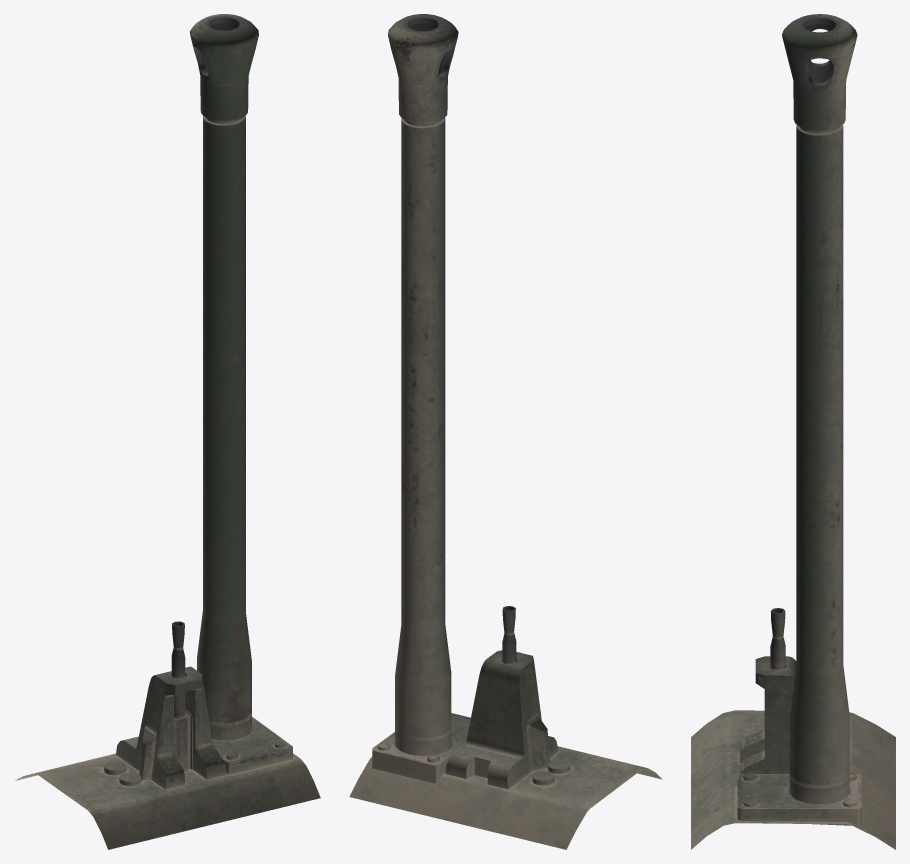
File: Gun_07.glb
3 views of the same model, side by side, from view 1: azimuth 30°, elevation 25°; view 2: azimuth 150°, elevation 25°; view 3: azimuth 270°, elevation 25° (orthographic). The views are drawn at different scales.
Parts seen in each view (by area): view 1: set_0_group_0; view 2: set_0_group_0; view 3: set_0_group_0.
Part boxes in pixels (left/top/right/bottom): set_0_group_0: left=15, top=14, right=320, bottom=849; set_0_group_0: left=349, top=14, right=662, bottom=849; set_0_group_0: left=691, top=14, right=895, bottom=849.
Bounding box in the file's own units: 0.6116 × 2.03 × 0.4689.
Materials: 1 (1 with a texture image).
